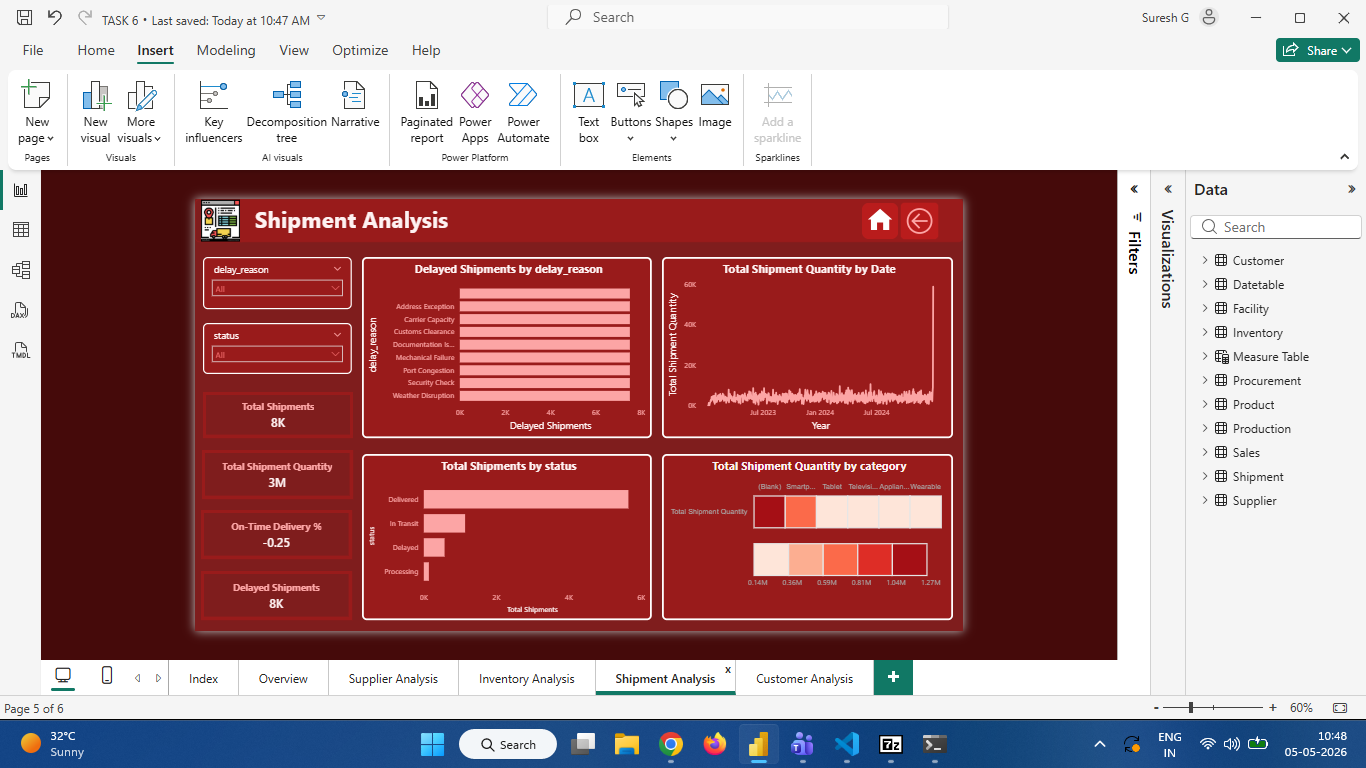

The dashboard page shown, as its layout file describes it:
{"tool":"powerbi","page":{"name":"Shipment Analysis","canvas":[1280,720],"ordinal":4},"visuals":[{"type":"textbox","box":[10,0,1270,71.7],"z":0},{"type":"cardVisual","fields":{"Data":["Measure Table.Total Shipments"]},"box":[13.3,321.7,250,76.7],"z":1},{"type":"cardVisual","fields":{"Data":["Measure Table.Total Shipment Quantity"]},"box":[11.7,418.3,251.7,81.7],"z":2},{"type":"cardVisual","fields":{"Data":["Measure Table.On-Time Delivery %"]},"box":[10,518.3,251.7,81.7],"z":3},{"type":"cardVisual","fields":{"Data":["Measure Table.Delayed Shipments"]},"box":[10,620,251.7,81.7],"z":4},{"type":"lineChart","title":"Total Shipment Quantity by Date","fields":{"Y":["Measure Table.Total Shipment Quantity"],"Category":["Datetable.date.Variation.Date Hierarchy.Year","Datetable.date.Variation.Date Hierarchy.Quarter","Datetable.date.Variation.Date Hierarchy.Month","Datetable.date.Variation.Date Hierarchy.Day"]},"box":[778.3,96.7,485,301.7],"z":5},{"type":"clusteredBarChart","fields":{"Y":["Measure Table.Total Shipments"],"Category":["Shipment.status"]},"box":[278.3,425,483.3,276.7],"z":6},{"type":"clusteredBarChart","fields":{"Category":["Shipment.delay_reason"],"Y":["Measure Table.Delayed Shipments"]},"box":[278.3,96.7,483.3,301.7],"z":7},{"type":"TableHeatMap1443716069308","fields":{"Y":["Measure Table.Total Shipment Quantity"],"Category":["Product.category"]},"box":[778.3,425,485,276.7],"z":8},{"type":"slicer","fields":{"Values":["Shipment.status"]},"box":[13.3,206.7,248.3,85],"z":9},{"type":"slicer","fields":{"Values":["Shipment.delay_reason"]},"box":[13.3,96.7,248.3,86.7],"z":10},{"type":"image","box":[0,0,85,71.7],"z":11},{"type":"actionButton","box":[1175,5,65,63.3],"z":12},{"type":"image","box":[1108.3,5,66.7,63.3],"z":13}]}

Visuals, with their boxes on the page's 1280x720 design canvas (x1, y1, x2, y2). These are canvas units, not pixel positions in the 1366x768 screenshot, which may show the page scaled, cropped or inside an application window:
textbox: [x1=10, y1=0, x2=1280, y2=72]
cardVisual - Measure Table.Total Shipments: [x1=13, y1=322, x2=263, y2=398]
cardVisual - Measure Table.Total Shipment Quantity: [x1=12, y1=418, x2=263, y2=500]
cardVisual - Measure Table.On-Time Delivery %: [x1=10, y1=518, x2=262, y2=600]
cardVisual - Measure Table.Delayed Shipments: [x1=10, y1=620, x2=262, y2=702]
"Total Shipment Quantity by Date" lineChart: [x1=778, y1=97, x2=1263, y2=398]
clusteredBarChart - Measure Table.Total Shipments x Shipment.status: [x1=278, y1=425, x2=762, y2=702]
clusteredBarChart - Shipment.delay_reason x Measure Table.Delayed Shipments: [x1=278, y1=97, x2=762, y2=398]
TableHeatMap1443716069308 - Measure Table.Total Shipment Quantity x Product.category: [x1=778, y1=425, x2=1263, y2=702]
slicer - Shipment.status: [x1=13, y1=207, x2=262, y2=292]
slicer - Shipment.delay_reason: [x1=13, y1=97, x2=262, y2=183]
image: [x1=0, y1=0, x2=85, y2=72]
actionButton: [x1=1175, y1=5, x2=1240, y2=68]
image: [x1=1108, y1=5, x2=1175, y2=68]
